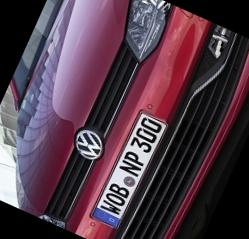plate: (76, 97, 194, 239)
